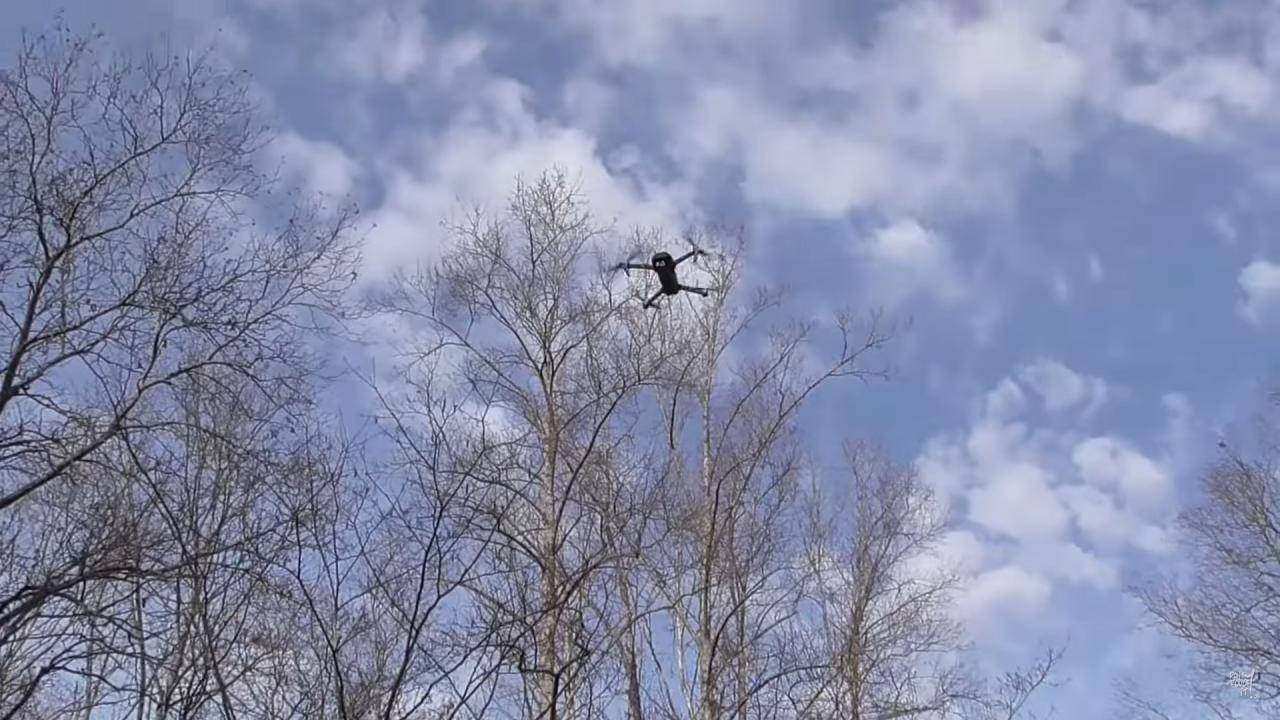Drone: (604, 225, 726, 319)
